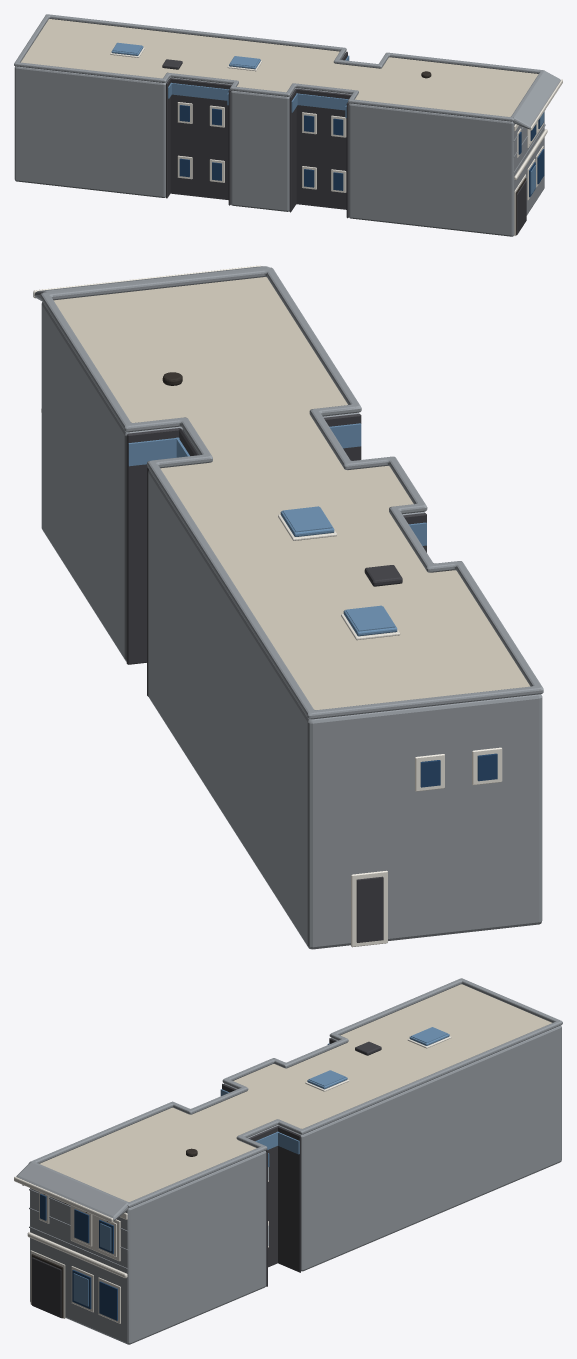
The model's file is 126-south-park.glb.
3 renders of one model, top to bottom at view 1: azimuth 30°, elevation 25°; view 2: azimuth 150°, elevation 25°; view 3: azimuth 270°, elevation 25°, orthographic. The views are drawn at different scales.
Visible parts, largest first — view 1: body, grp_Toy_roofd, grp_Toy_steel, grp_Toy_trim, grp_Toy_glass, grp_Toy_glass_Glow, grp_Toy_glassl_Glow; view 2: body, grp_Toy_steel, grp_Toy_roofd, grp_Toy_trim, grp_Toy_glass_Glow, grp_Toy_glassl_Glow, grp_Toy_glass; view 3: body, grp_Toy_steel, grp_Toy_roofd, grp_Toy_trim, grp_Toy_glass, grp_Toy_glass_Glow, grp_Toy_glassl_Glow.
Part boxes in pixels (bbox=[...]): body: bbox=[14, 19, 544, 236]; grp_Toy_roofd: bbox=[162, 51, 526, 235]; grp_Toy_steel: bbox=[14, 14, 560, 173]; grp_Toy_trim: bbox=[110, 47, 562, 235]; grp_Toy_glass: bbox=[179, 105, 544, 197]; grp_Toy_glass_Glow: bbox=[168, 55, 544, 194]; grp_Toy_glassl_Glow: bbox=[112, 42, 259, 66]; body: bbox=[41, 277, 542, 949]; grp_Toy_steel: bbox=[34, 266, 543, 719]; grp_Toy_roofd: bbox=[126, 414, 426, 942]; grp_Toy_trim: bbox=[33, 265, 502, 947]; grp_Toy_glass_Glow: bbox=[128, 423, 426, 545]; grp_Toy_glassl_Glow: bbox=[282, 506, 395, 631]; grp_Toy_glass: bbox=[420, 753, 497, 787]; body: bbox=[30, 984, 561, 1344]; grp_Toy_steel: bbox=[16, 978, 562, 1269]; grp_Toy_roofd: bbox=[32, 1038, 381, 1318]; grp_Toy_trim: bbox=[14, 1036, 451, 1323]; grp_Toy_glass: bbox=[40, 1167, 268, 1320]; grp_Toy_glass_Glow: bbox=[73, 1043, 329, 1306]; grp_Toy_glassl_Glow: bbox=[308, 1027, 447, 1086].
Size of the model in its own units: 26.74 by 7.6 by 26.59.
